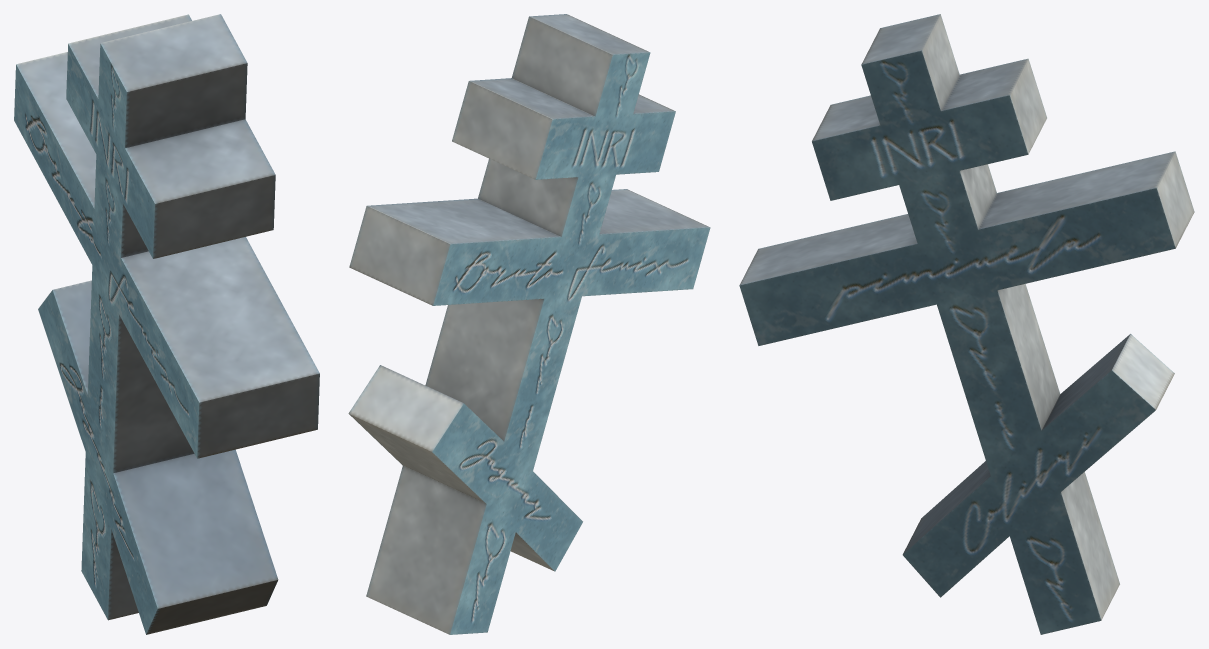
3 views of the same model, side by side, from view 1: azimuth 30°, elevation 25°; view 2: azimuth 150°, elevation 25°; view 3: azimuth 270°, elevation 25° (orthographic). The views are drawn at different scales.
Parts seen in each view (by area): view 1: Cruz_Orto_Cube.011; view 2: Cruz_Orto_Cube.011; view 3: Cruz_Orto_Cube.011.
Part boxes in pixels (x1,y1,x2,y2): Cruz_Orto_Cube.011: (14, 14, 319, 634); Cruz_Orto_Cube.011: (348, 14, 710, 634); Cruz_Orto_Cube.011: (739, 14, 1194, 634).
Bounding box in the file's own units: 0.8822 × 2.69 × 1.98.
